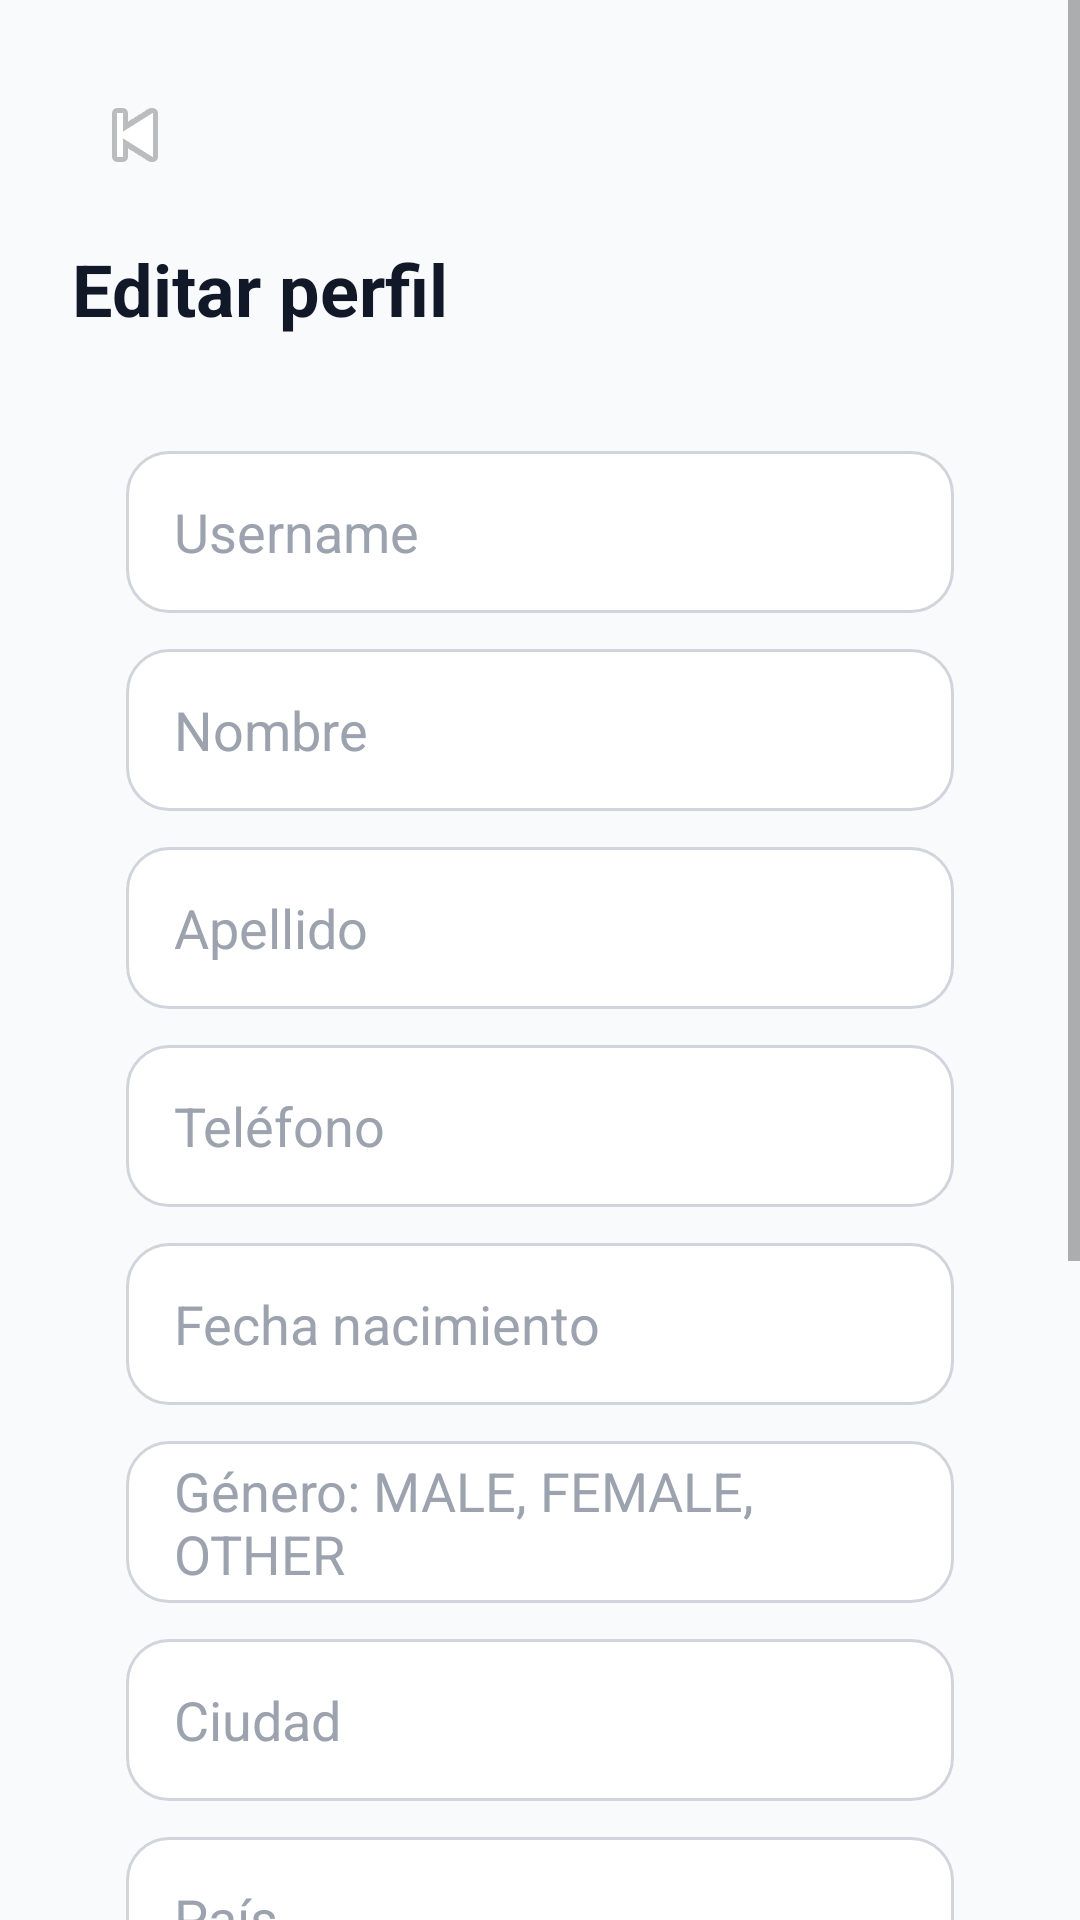

Icon click points for this 1080x1920 phone screenshot, format point (x, y):
previous: point (135, 135)
